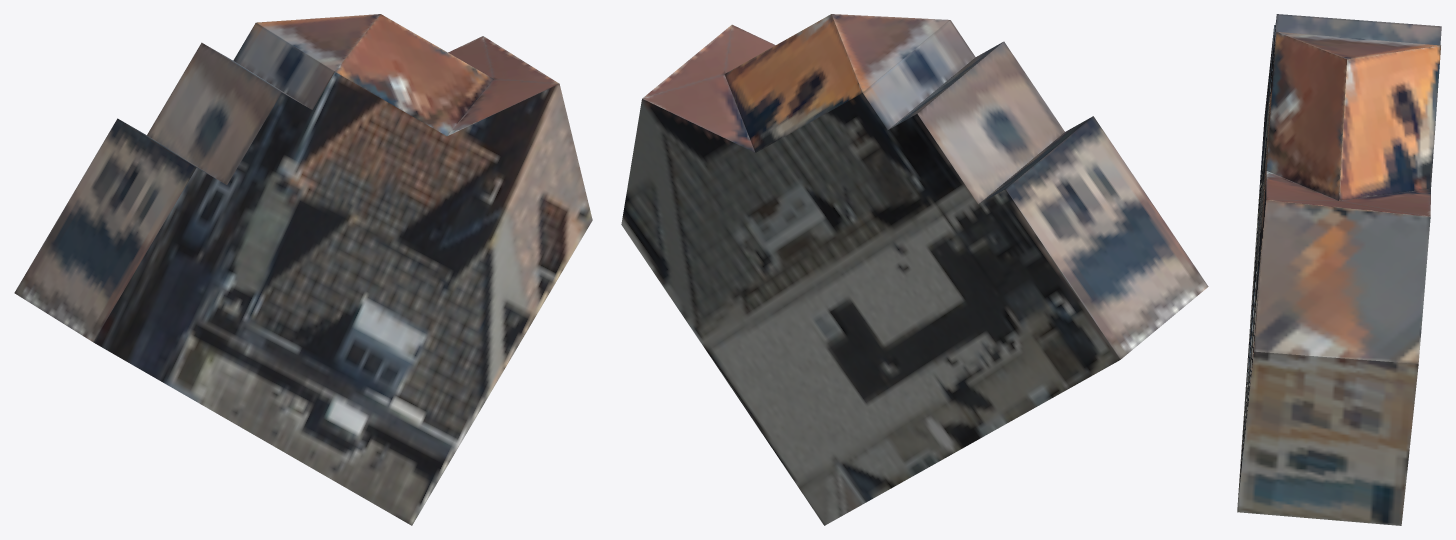
3 views of the same model, side by side, from view 1: azimuth 30°, elevation 25°; view 2: azimuth 150°, elevation 25°; view 3: azimuth 270°, elevation 25° (orthographic). The views are drawn at different scales.
Visible parts, largest first — view 1: BAG_0599100000760369 (×4); view 2: BAG_0599100000760369 (×4); view 3: BAG_0599100000760369 (×3).
Part boxes in pixels (bbox=[...]): BAG_0599100000760369 (×4): bbox=[14, 14, 592, 525]; BAG_0599100000760369 (×4): bbox=[621, 14, 1208, 525]; BAG_0599100000760369 (×3): bbox=[1237, 14, 1441, 525].
Bounding box in the file's own units: 18.91 × 17.29 × 6.73.
4 materials, 4 textured.
